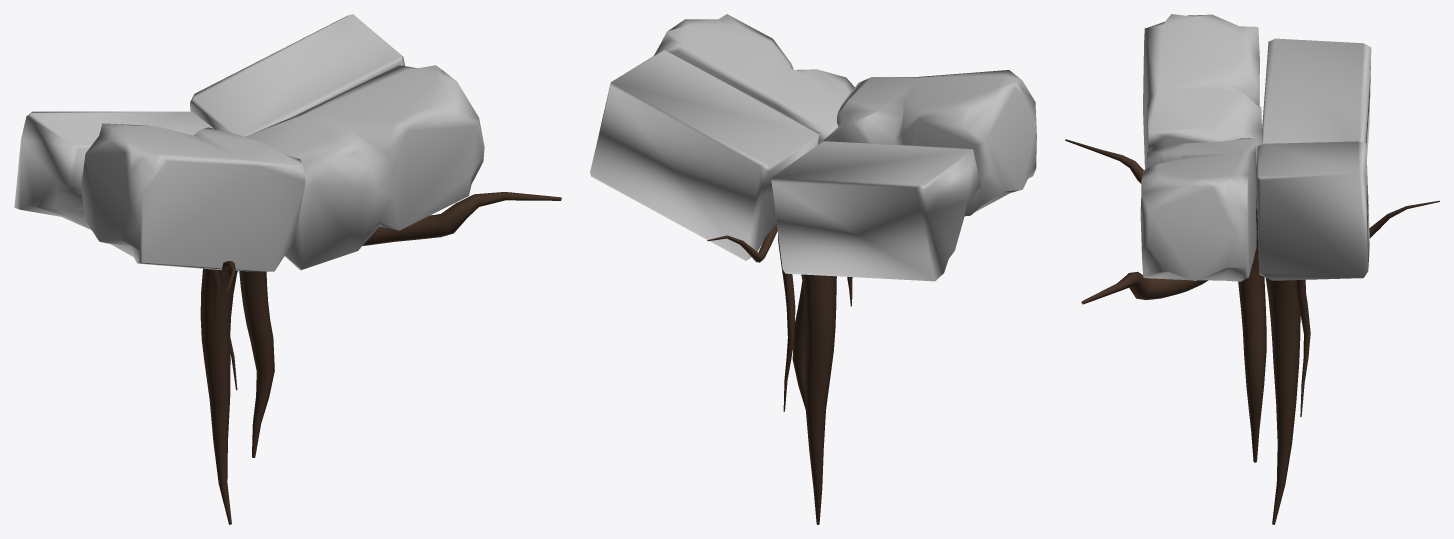
Rendered from VineCeiling.fbx.
The picture shows the model from 3 angles, left to right: view 1: azimuth 30°, elevation 25°; view 2: azimuth 150°, elevation 25°; view 3: azimuth 270°, elevation 25°; orthographic projection.
Visible parts, largest first — view 1: BezierCurve.002; view 2: BezierCurve.002; view 3: BezierCurve.002.
Part boxes in pixels (<box>): BezierCurve.002: <box>14,14,561,524</box>; BezierCurve.002: <box>590,14,1036,524</box>; BezierCurve.002: <box>1065,14,1439,524</box>.
Size of the model in its own units: 403 by 427 by 330.
